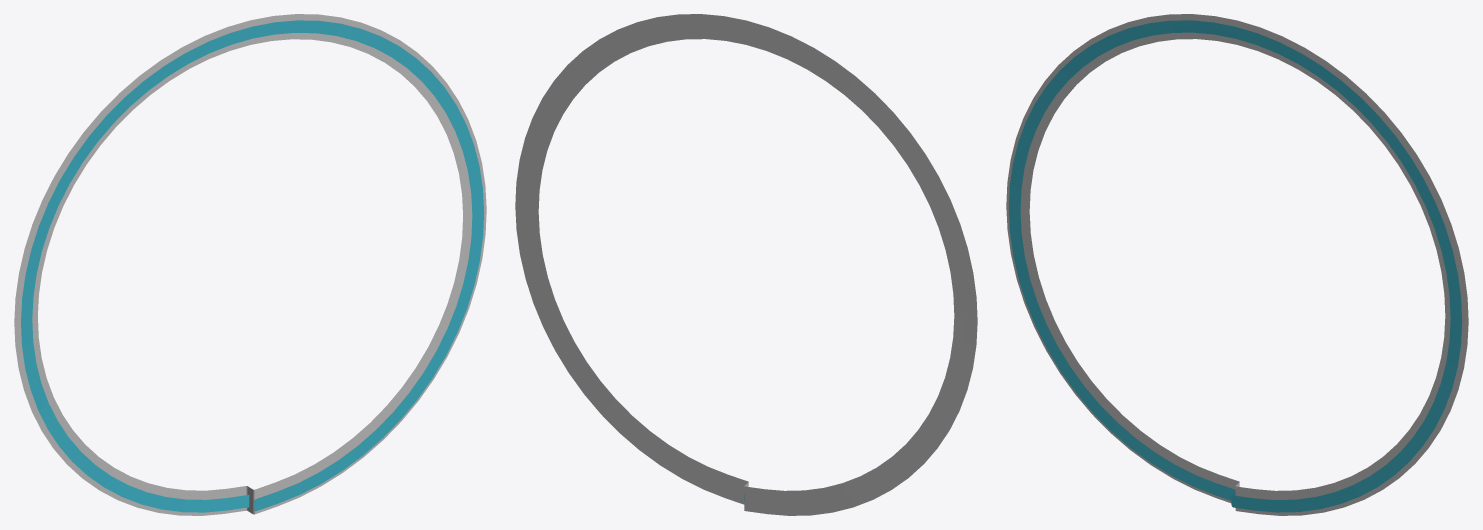
The model's file is bubble_prelude.dae.
3 views of the same model, side by side, from view 1: azimuth 30°, elevation 25°; view 2: azimuth 150°, elevation 25°; view 3: azimuth 330°, elevation 25° (orthographic).
Visible parts, largest first — view 1: back, front; view 2: back; view 3: back, front.
Part boxes in pixels (x1=…): back: x1=14, y1=14, x2=486, y2=515; front: x1=21, y1=20, x2=483, y2=512; back: x1=515, y1=14, x2=977, y2=515; back: x1=1006, y1=14, x2=1468, y2=515; front: x1=1009, y1=20, x2=1462, y2=512.
Size of the model in its own units: 0.7962 by 0.0235 by 0.7981.
